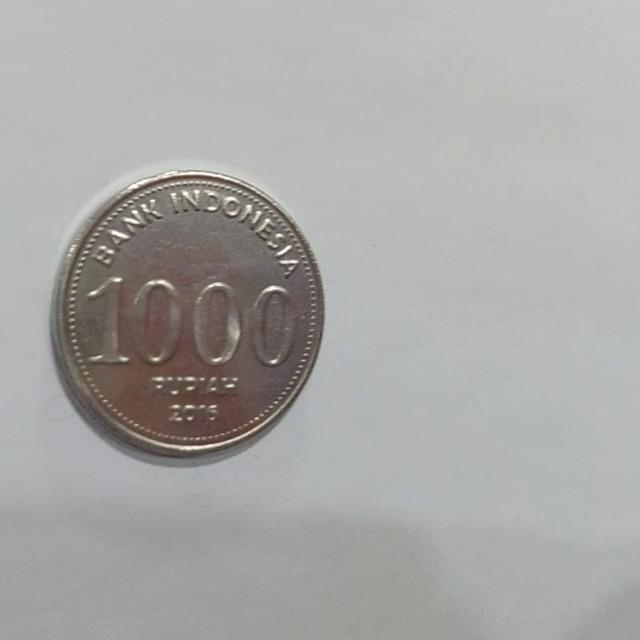Rp100: (48, 166, 326, 465)
